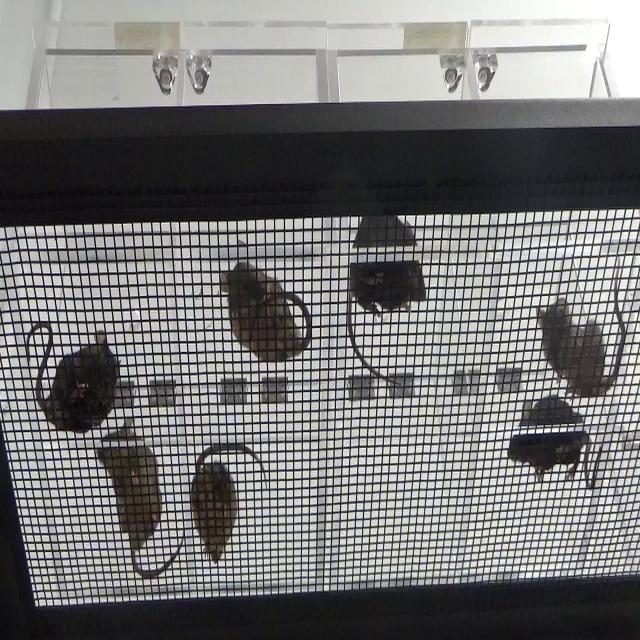scratch: (531, 278, 635, 407)
